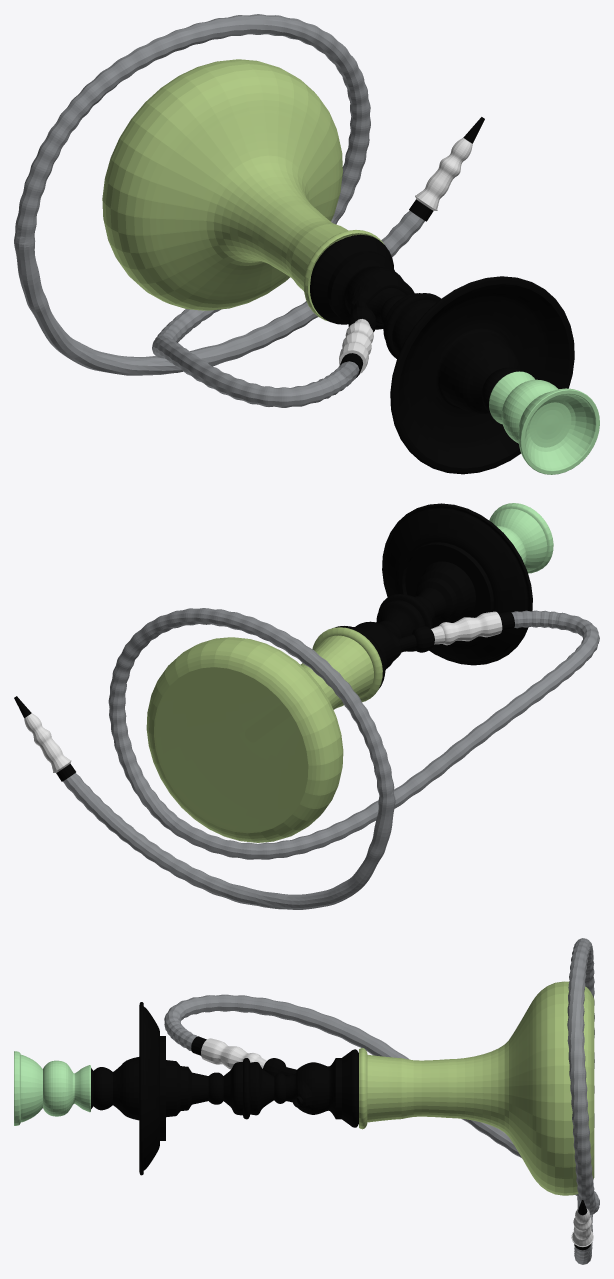
The picture shows the model from 3 angles, top to bottom: view 1: azimuth 30°, elevation 25°; view 2: azimuth 150°, elevation 25°; view 3: azimuth 270°, elevation 25°; orthographic projection. The views are drawn at different scales.
Visible parts, largest first — view 1: Node1; view 2: Node1; view 3: Node1.
Part boxes in pixels (left/top/right/bottom): Node1: left=14, top=14, right=599, bottom=474; Node1: left=14, top=503, right=599, bottom=909; Node1: left=14, top=938, right=599, bottom=1264.
Size of what is drawn, in the model's own units: 469 by 319 by 596.
